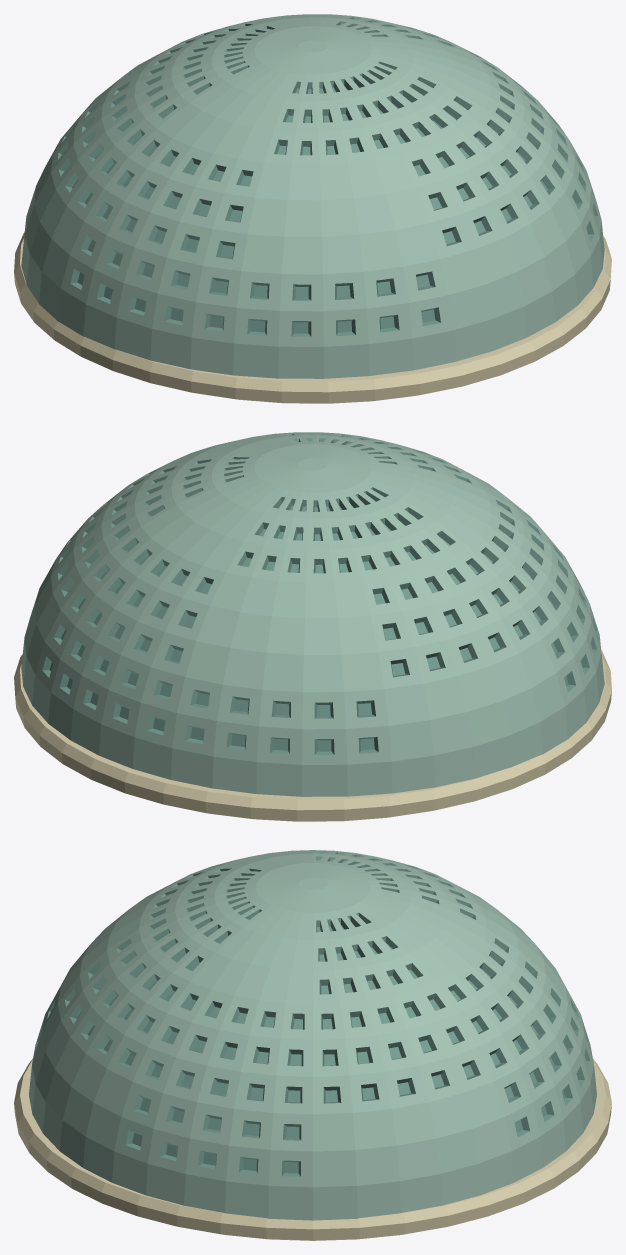
The model's file is prasopora.glb.
3 renders of one model, top to bottom at view 1: azimuth 30°, elevation 25°; view 2: azimuth 150°, elevation 25°; view 3: azimuth 270°, elevation 25°, orthographic.
Parts seen in each view (by area): view 1: Porous integrated bryozoan dome, Low epithecal basal rim; view 2: Porous integrated bryozoan dome, Low epithecal basal rim; view 3: Porous integrated bryozoan dome, Low epithecal basal rim.
Boxes of the visible parts, x1=… form: Porous integrated bryozoan dome: x1=21, y1=14, x2=604, y2=378; Low epithecal basal rim: x1=14, y1=232, x2=611, y2=403; Porous integrated bryozoan dome: x1=21, y1=432, x2=604, y2=796; Low epithecal basal rim: x1=14, y1=650, x2=611, y2=821; Porous integrated bryozoan dome: x1=29, y1=850, x2=596, y2=1220; Low epithecal basal rim: x1=14, y1=1059, x2=611, y2=1240.
Size of the model in its own units: 0.061 by 0.027 by 0.061.
